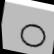no answer: (14, 15, 54, 54)
